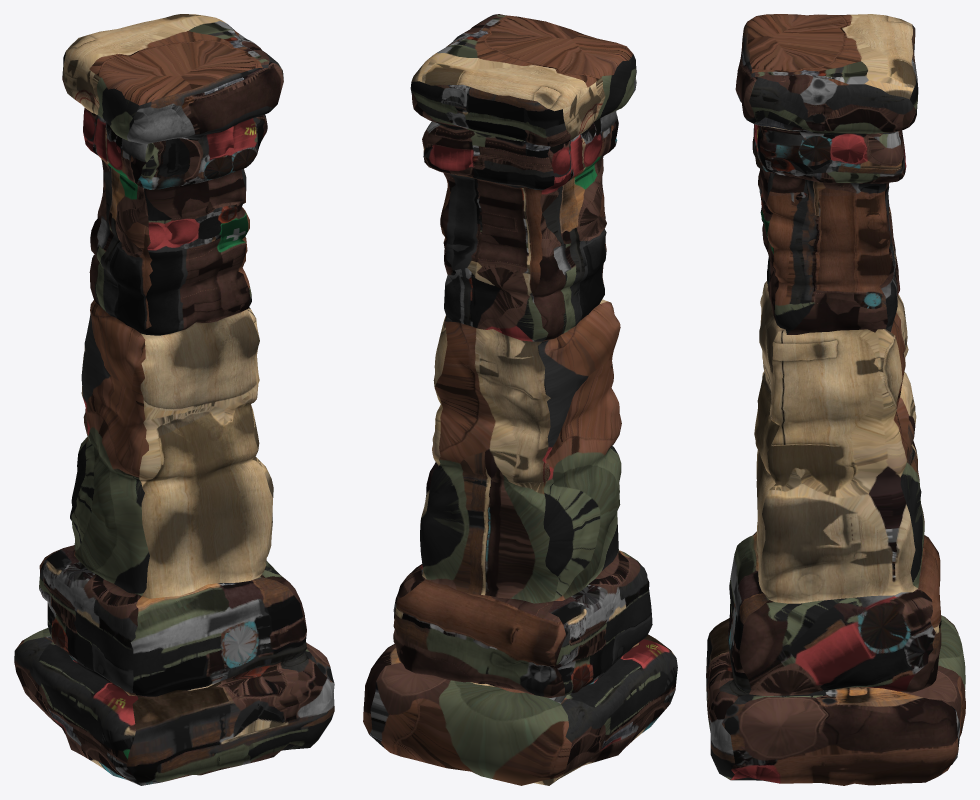
The model's file is Pillar 2.fbx.
3 renders of one model, left to right at view 1: azimuth 30°, elevation 25°; view 2: azimuth 150°, elevation 25°; view 3: azimuth 270°, elevation 25°, orthographic.
Visible parts, largest first — view 1: Lo; view 2: Lo; view 3: Lo.
Part boxes in pixels (x1,y1,x2,y2): Lo: (14,14,334,785); Lo: (363,14,677,785); Lo: (706,14,965,785).
Size of the model in its own units: 106 by 300 by 103.
